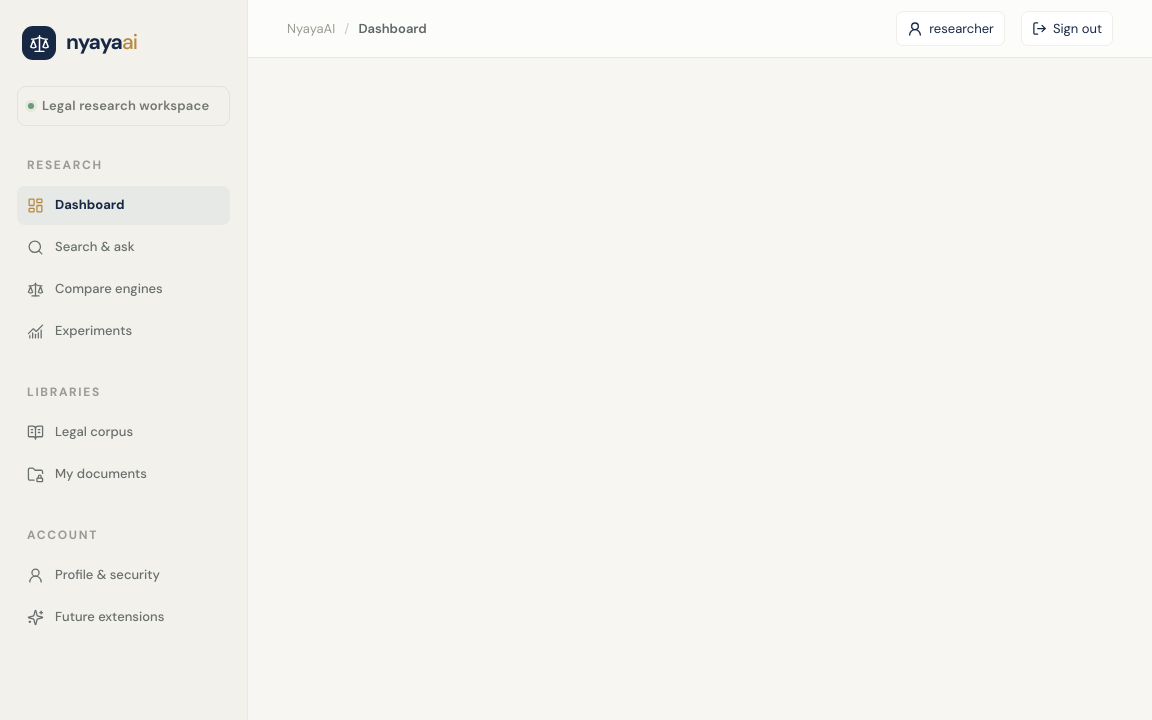
Test: authentication and route protection › logs out through the API and clears the session
The image size is (1152, 720).
Click the button "Sign out".
click(1067, 29)  # box [1021,11,1113,46]
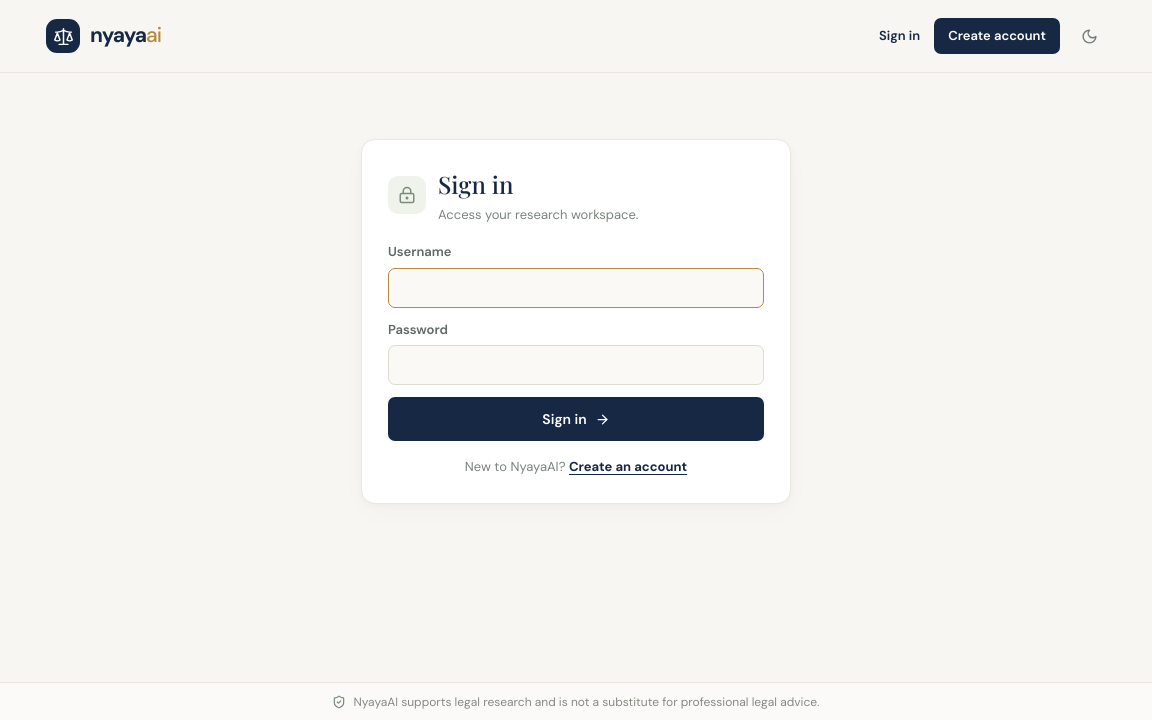
Check: the heading "Sign in" is shown, box [438,168,513,200]
